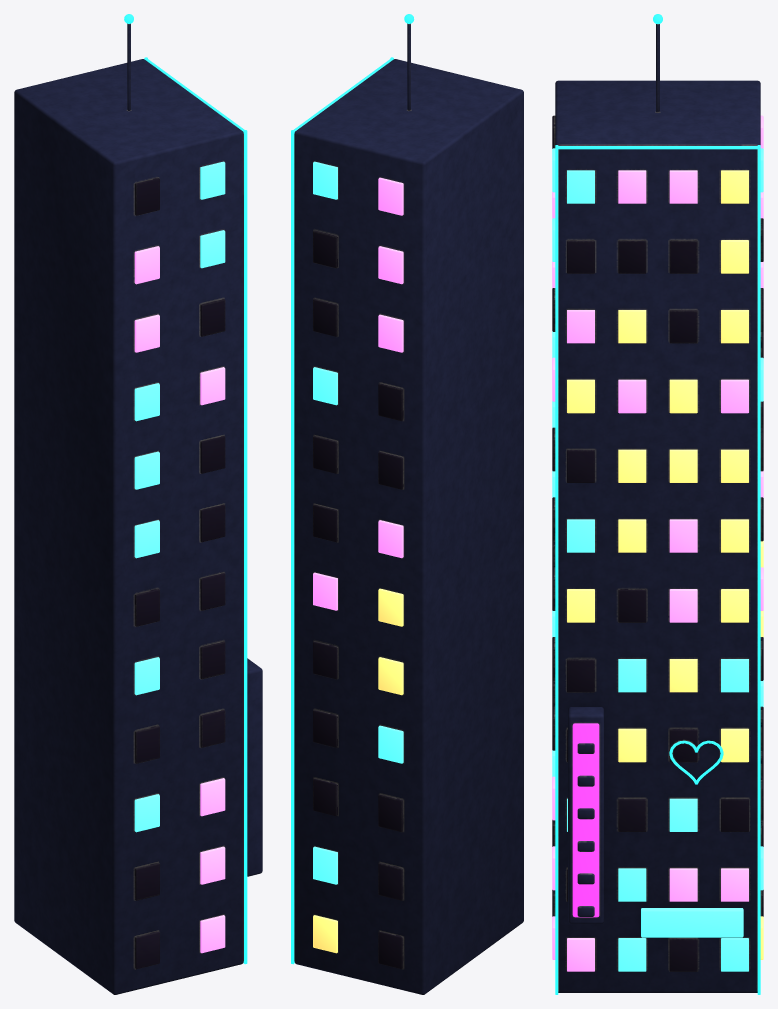
The model's file is rn_building_b.glb.
3 views of the same model, side by side, from view 1: azimuth 30°, elevation 25°; view 2: azimuth 150°, elevation 25°; view 3: azimuth 270°, elevation 25° (orthographic).
Visible parts, largest first — view 1: rn_building_b; view 2: rn_building_b; view 3: rn_building_b.
Boxes of the visible parts, x1=… form: rn_building_b: x1=14, y1=14, x2=262, y2=994; rn_building_b: x1=291, y1=14, x2=523, y2=994; rn_building_b: x1=552, y1=14, x2=763, y2=994.
Size of the model in its own units: 7.25 by 40.7 by 8.22.
7 materials, 7 textured.
